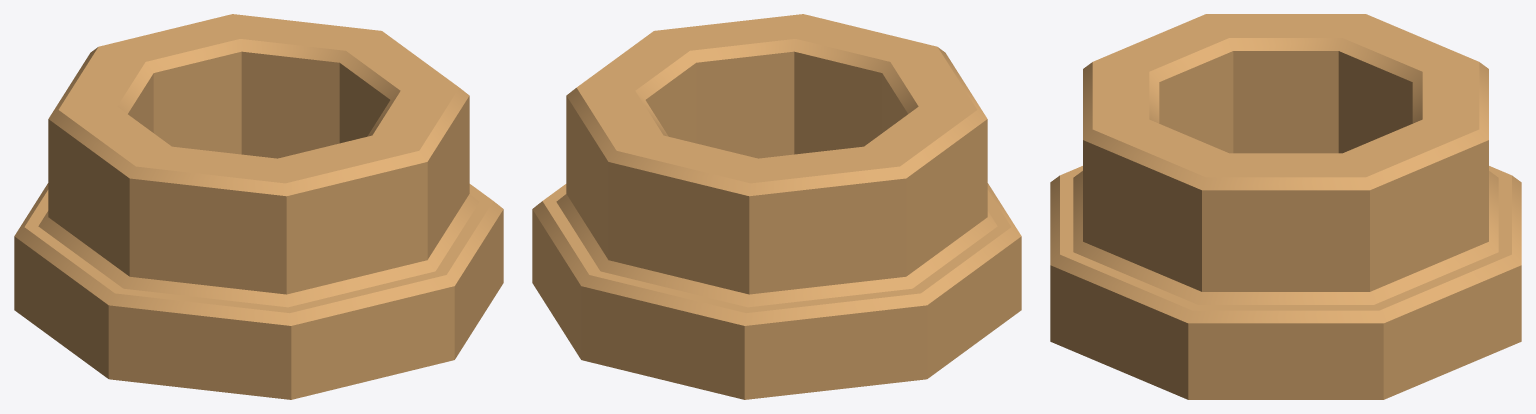
The model's file is Aufziehschlüsselloch_01.fbx.
The picture shows the model from 3 angles, left to right: view 1: azimuth 30°, elevation 25°; view 2: azimuth 150°, elevation 25°; view 3: azimuth 270°, elevation 25°; orthographic projection. The views are drawn at different scales.
Parts seen in each view (by area): view 1: Aufziehschlüsselloch_01.001; view 2: Aufziehschlüsselloch_01.001; view 3: Aufziehschlüsselloch_01.001.
Boxes of the visible parts, box(x1,y1,x2,y2) form: Aufziehschlüsselloch_01.001: box(14, 14, 503, 399); Aufziehschlüsselloch_01.001: box(532, 14, 1021, 399); Aufziehschlüsselloch_01.001: box(1050, 14, 1521, 399).
Size of the model in its own units: 33.61 by 16.09 by 33.61.
